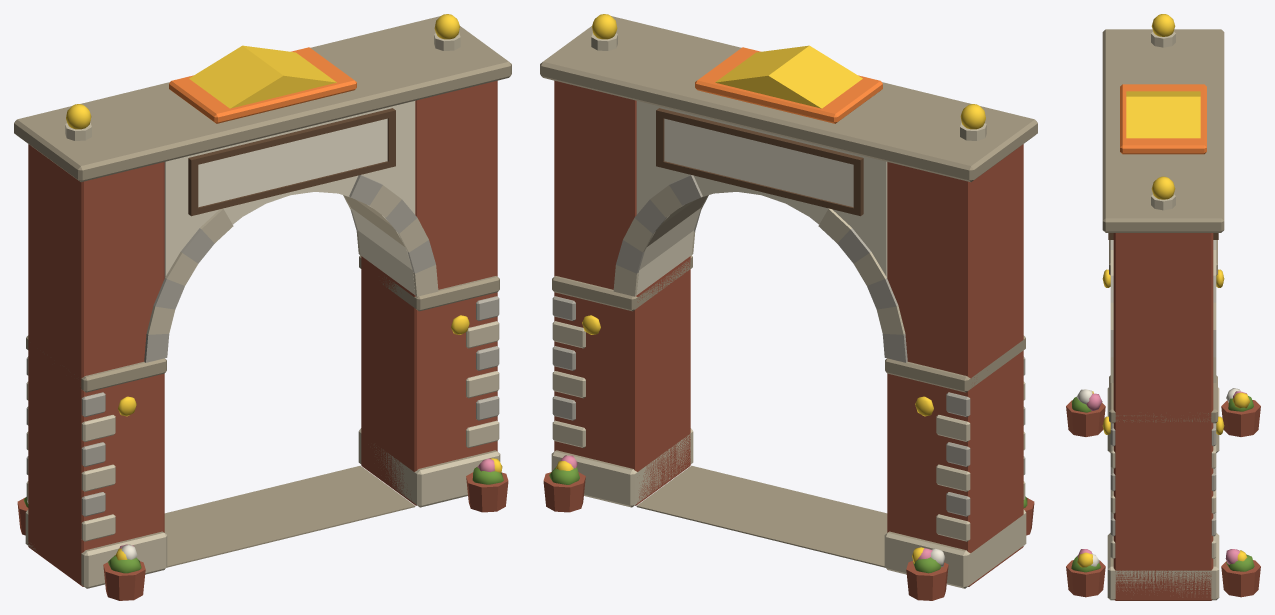
The model's file is plaza_portal.glb.
3 renders of one model, left to right at view 1: azimuth 30°, elevation 25°; view 2: azimuth 150°, elevation 25°; view 3: azimuth 270°, elevation 25°, orthographic. The views are drawn at different scales.
Parts seen in each view (by area): view 1: LOD0; view 2: LOD0; view 3: LOD0.
Part boxes in pixels (x1,y1,x2,y2): LOD0: [14, 14, 511, 600]; LOD0: [540, 14, 1037, 600]; LOD0: [1066, 14, 1260, 600].
Bounding box in the file's own units: 7.3 × 7.35 × 3.14.
Materials: 1 (1 with a texture image).
